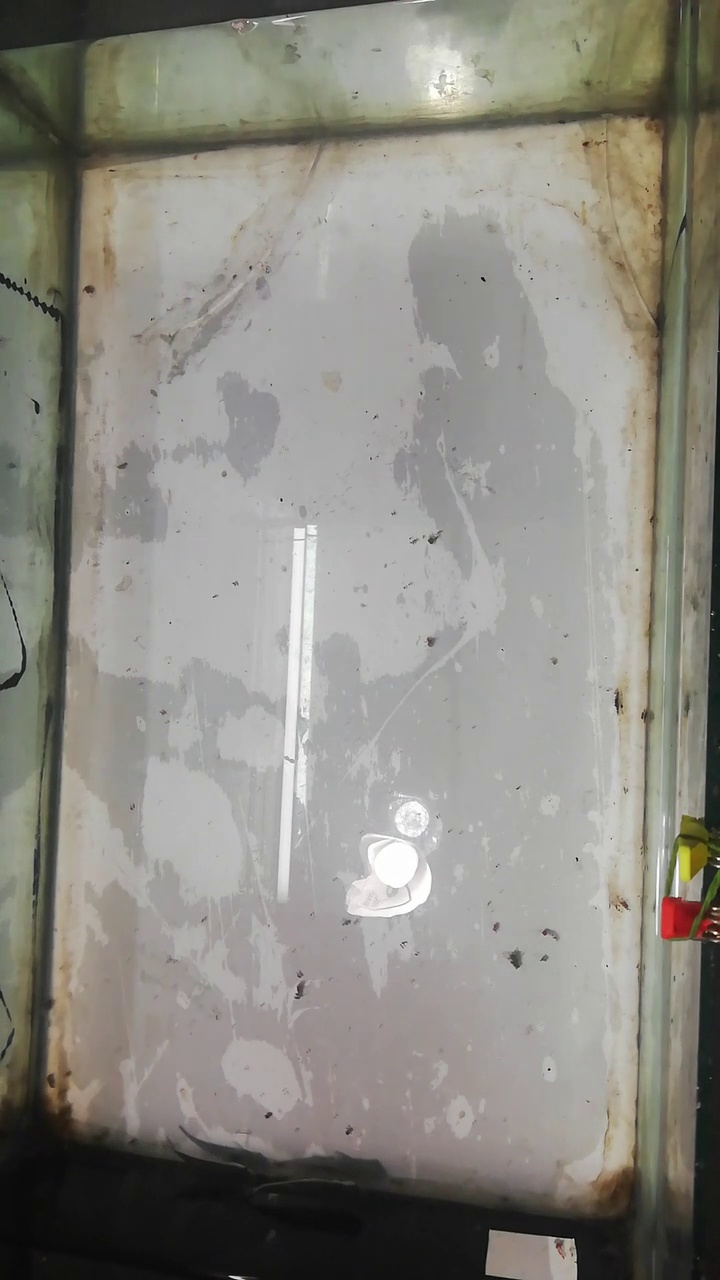fish1: (279, 1151, 393, 1182)
fish2: (164, 1138, 272, 1177)
